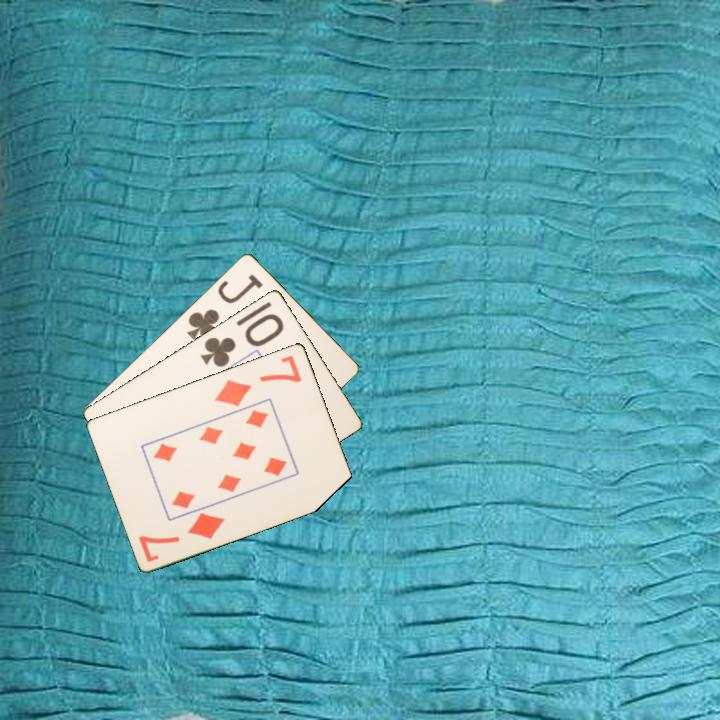10c: (197, 309, 287, 370)
7d: (211, 351, 305, 409), (135, 509, 228, 565)
Jc: (183, 270, 266, 343)
